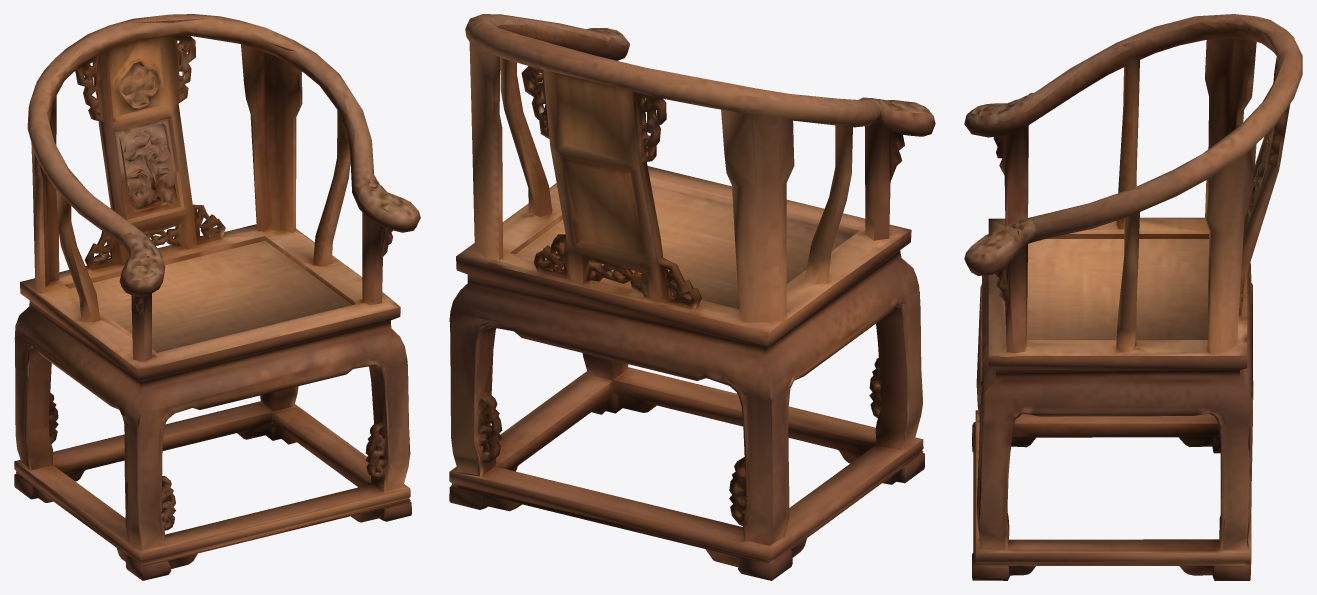
Rendered from quanyi.glb.
The picture shows the model from 3 angles, left to right: view 1: azimuth 30°, elevation 25°; view 2: azimuth 150°, elevation 25°; view 3: azimuth 270°, elevation 25°; orthographic projection. The views are drawn at different scales.
Visible parts, largest first — view 1: 圈椅; view 2: 圈椅; view 3: 圈椅.
Boxes of the visible parts, bbox=[...] form: 圈椅: bbox=[14, 14, 420, 580]; 圈椅: bbox=[449, 14, 935, 580]; 圈椅: bbox=[964, 14, 1302, 580].
Size of the model in its own units: 0.7667 by 1 by 0.6733.
Materials: 1 (1 with a texture image).
